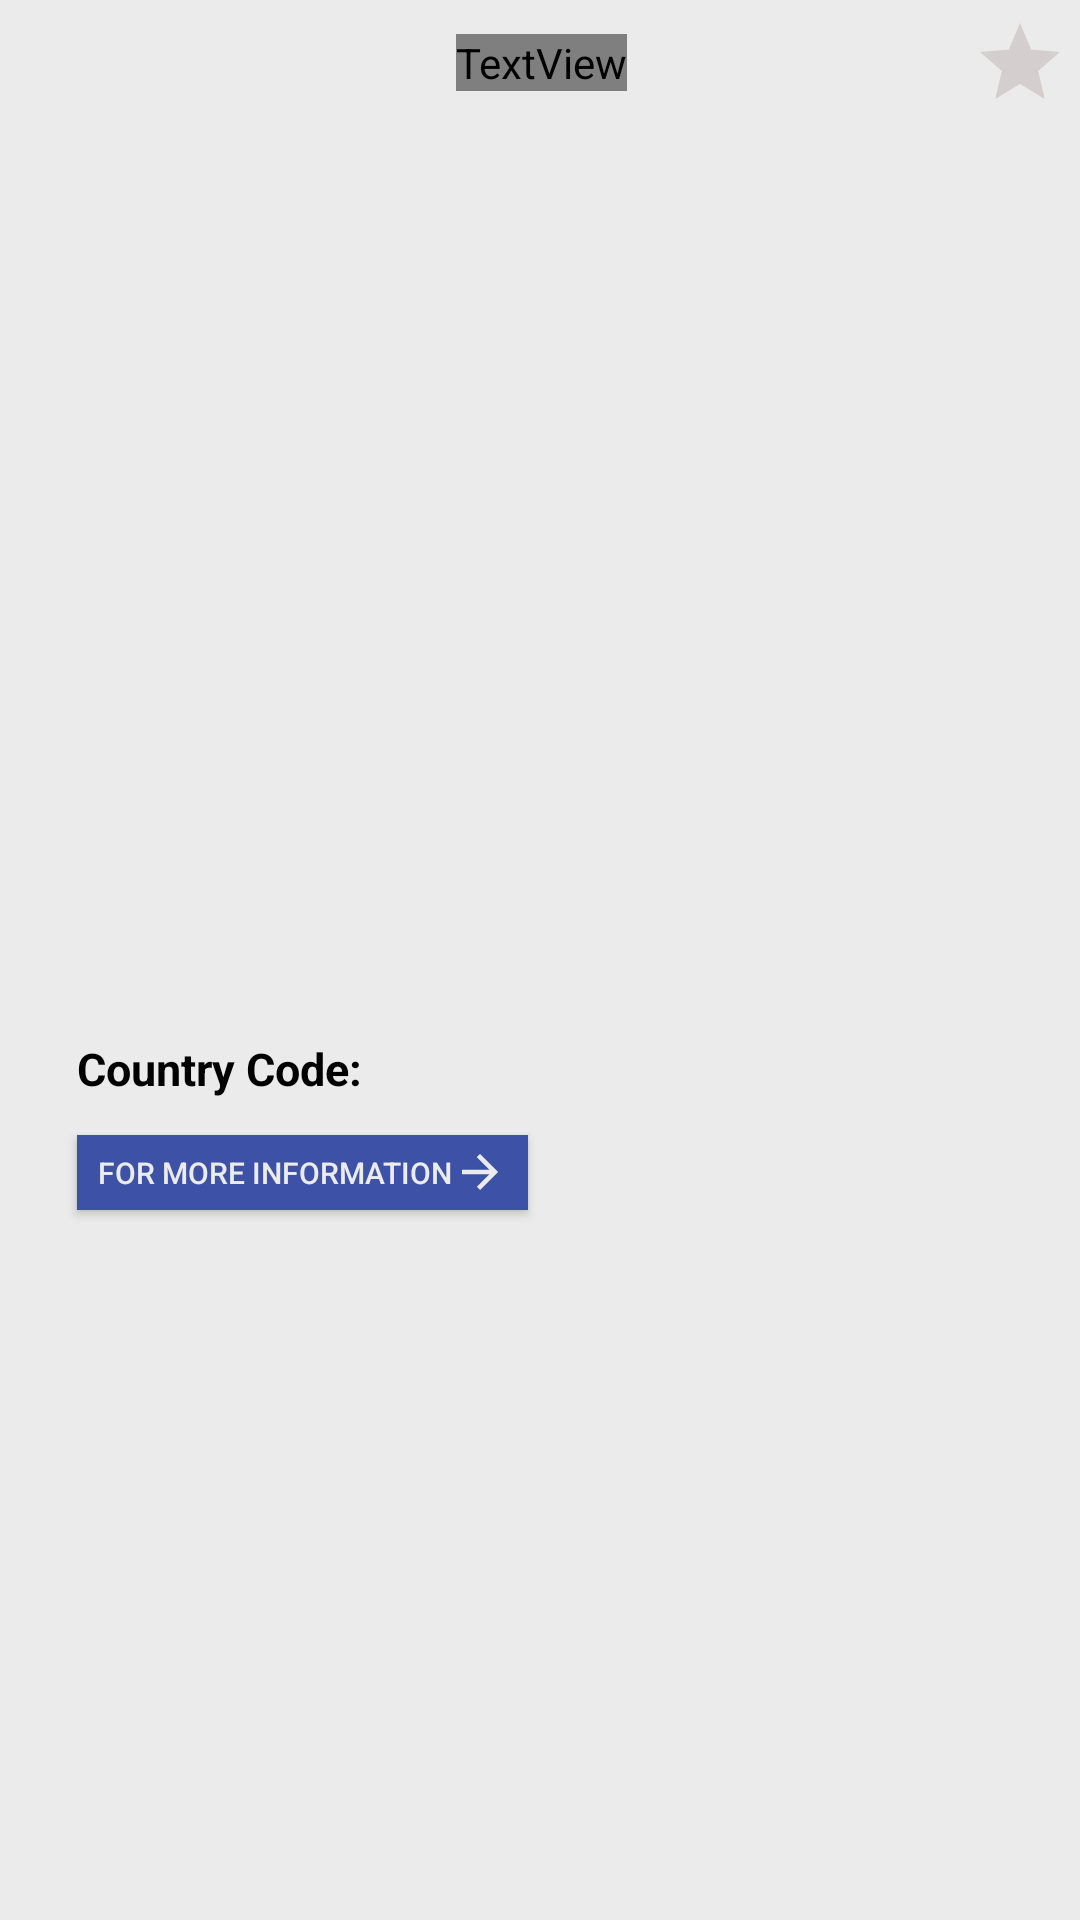

Screen size 1080*1920. Icon name, then its box in pixels as (x1, y1, x2, y2):
star: (981, 25, 1059, 98)
